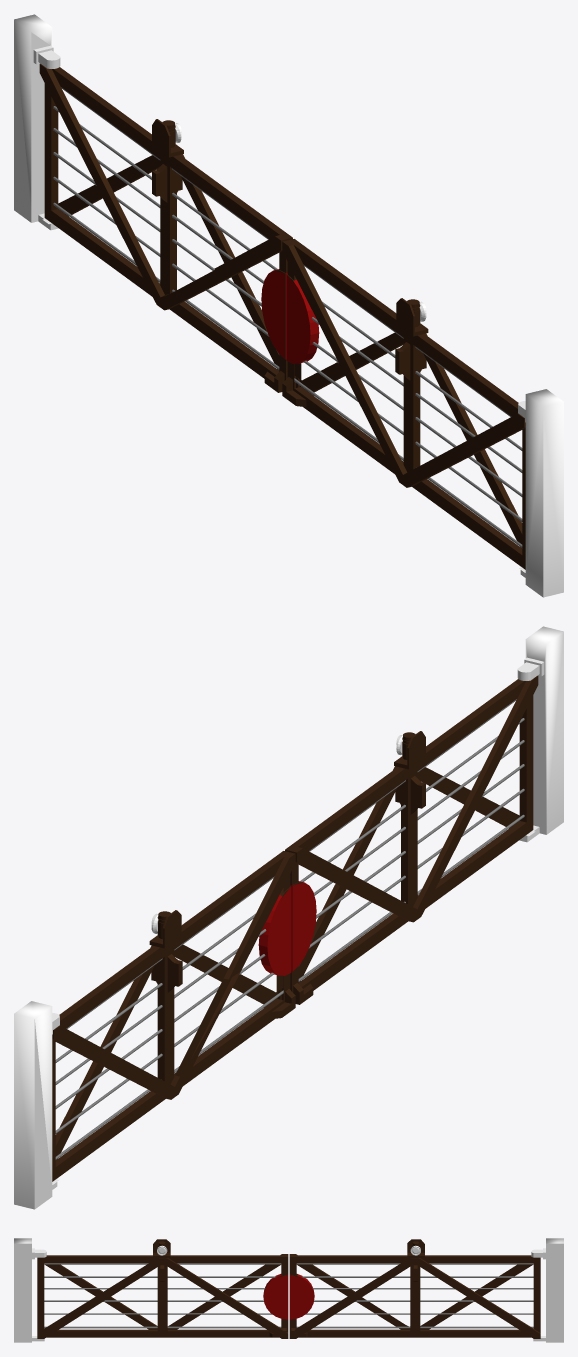
File: Fence.fbx
3 views of the same model, one above another, from view 1: azimuth 30°, elevation 25°; view 2: azimuth 150°, elevation 25°; view 3: azimuth 270°, elevation 25° (orthographic). The views are drawn at different scales.
Visible parts, largest first — view 1: Crossing; view 2: Crossing; view 3: Crossing.
Boxes of the visible parts, <box> form: Crossing: <box>14,14,563,597</box>; Crossing: <box>14,626,563,1209</box>; Crossing: <box>14,1238,563,1342</box>.
Size of the model in its own units: 358 by 2428 by 12192.
